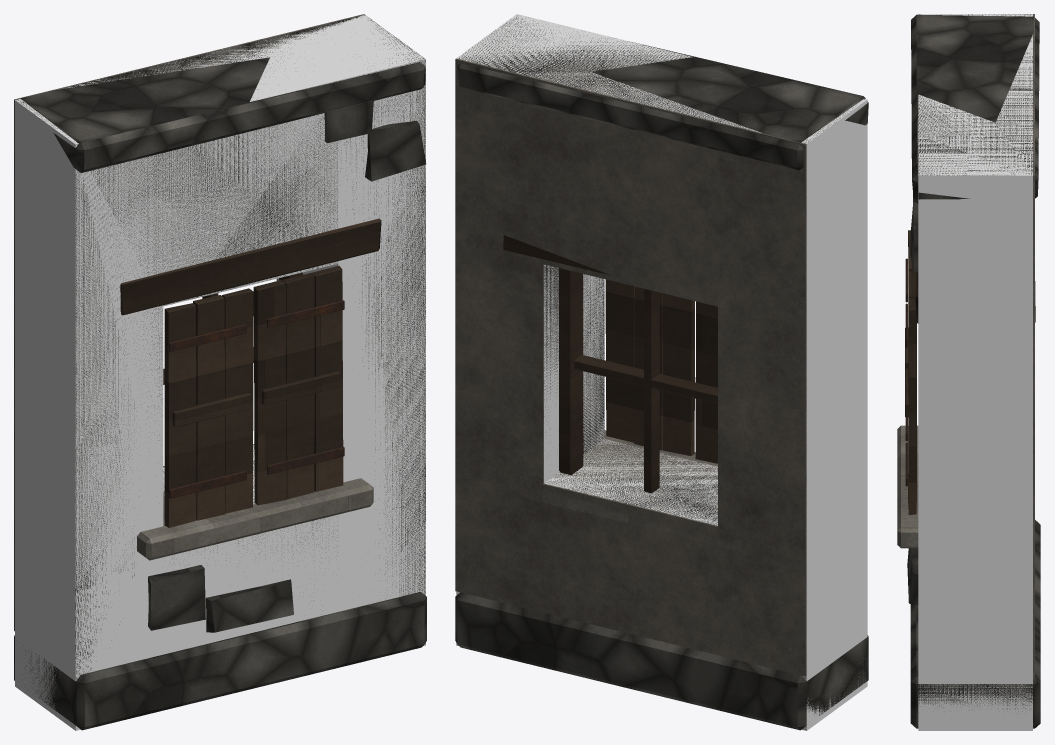
File: ak_wall_stone_2x3_win_square_closed.glb
The picture shows the model from 3 angles, left to right: view 1: azimuth 30°, elevation 25°; view 2: azimuth 150°, elevation 25°; view 3: azimuth 270°, elevation 25°; orthographic projection. The views are drawn at different scales.
Parts seen in each view (by area): view 1: col_wall_L, wall_stones, col_wall_R, wall, col_wall_top, shutter_L, shutter_R, frame, col_wall_low, wall_plaster; view 2: wall_plaster, wall_stones, col_wall_L, frame, wall, col_wall_R, shutter_R, col_wall_low, col_wall_top, shutter_L; view 3: col_wall_R, wall_stones, wall, col_wall_top, shutter_R, frame, wall_plaster, shutter_L, col_wall_L.
Part boxes in pixels (x1=…): col_wall_L: x1=15, y1=79, x2=163, y2=730; wall_stones: x1=14, y1=57, x2=426, y2=730; col_wall_R: x1=277, y1=15, x2=425, y2=645; wall: x1=16, y1=15, x2=425, y2=679; col_wall_top: x1=105, y1=38, x2=338, y2=306; shutter_L: x1=164, y1=288, x2=253, y2=527; shutter_R: x1=253, y1=265, x2=344, y2=505; frame: x1=120, y1=218, x2=381, y2=560; col_wall_low: x1=163, y1=445, x2=338, y2=654; wall_plaster: x1=14, y1=14, x2=364, y2=631; wall_plaster: x1=455, y1=58, x2=806, y2=676; wall_stones: x1=455, y1=42, x2=868, y2=730; col_wall_L: x1=719, y1=99, x2=867, y2=730; frame: x1=503, y1=235, x2=740, y2=550; wall: x1=457, y1=15, x2=864, y2=729; col_wall_R: x1=456, y1=14, x2=604, y2=645; shutter_R: x1=605, y1=279, x2=694, y2=455; col_wall_low: x1=544, y1=439, x2=717, y2=525; col_wall_top: x1=544, y1=35, x2=723, y2=122; shutter_L: x1=695, y1=301, x2=717, y2=463; col_wall_R: x1=918, y1=135, x2=1032, y2=730; wall_stones: x1=907, y1=14, x2=1040, y2=728; wall: x1=918, y1=14, x2=1032, y2=175; col_wall_top: x1=918, y1=54, x2=1032, y2=135; shutter_R: x1=905, y1=271, x2=916, y2=515; frame: x1=897, y1=272, x2=1035, y2=548; wall_plaster: x1=1033, y1=14, x2=1034, y2=678; shutter_L: x1=905, y1=230, x2=916, y2=441; col_wall_L: x1=918, y1=14, x2=1032, y2=54.
Bounding box in the file's own units: 2 × 3.21 × 0.75.
6 materials, 6 textured.
